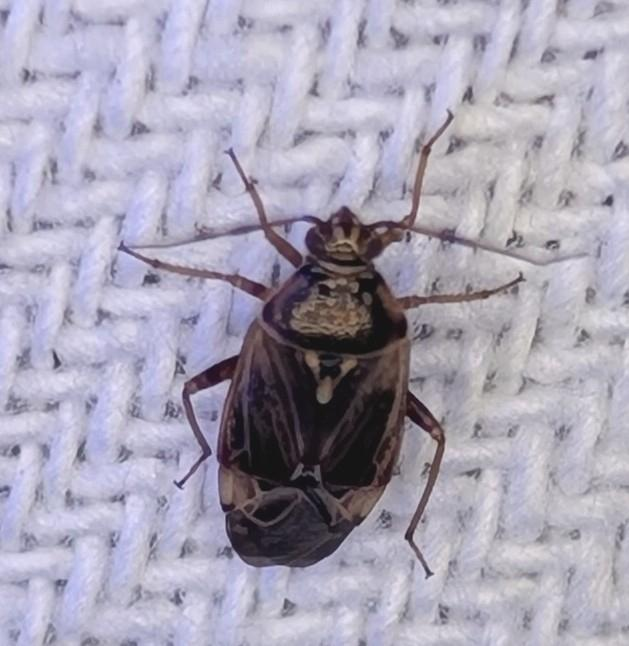plant_bugs: (97, 74, 564, 626)
